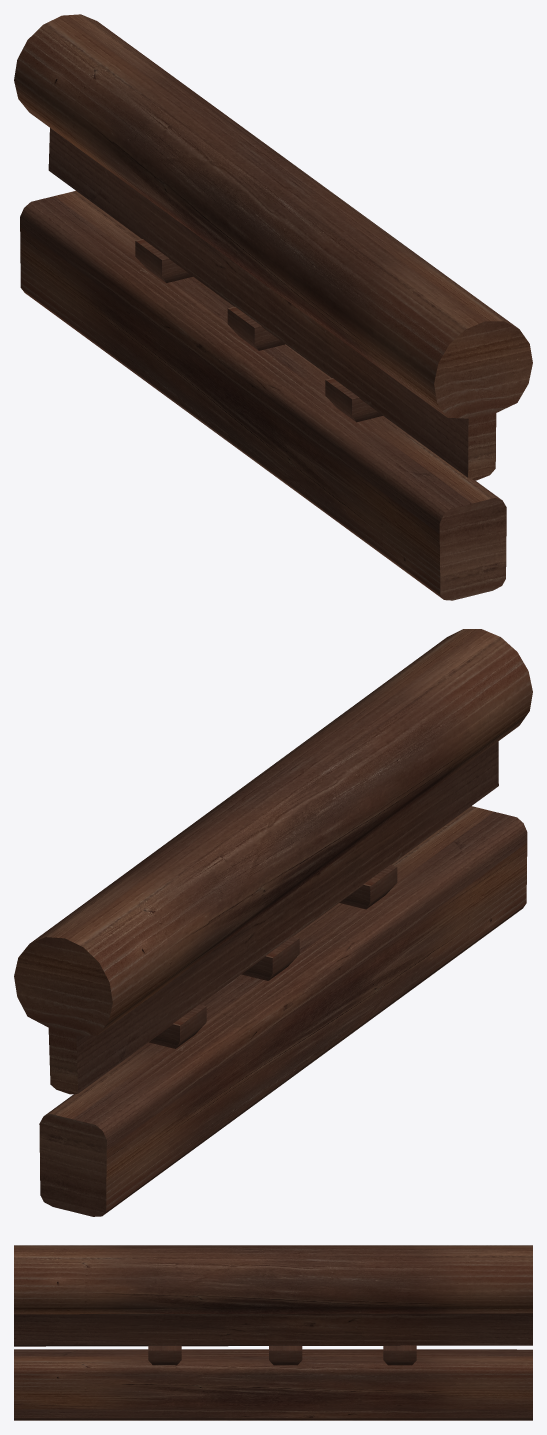
The model's file is SM_R_Dancheong_28.fbx.
The picture shows the model from 3 angles, top to bottom: view 1: azimuth 30°, elevation 25°; view 2: azimuth 150°, elevation 25°; view 3: azimuth 270°, elevation 25°; orthographic projection. The views are drawn at different scales.
Visible parts, largest first — view 1: SM_R_Dancheong_28; view 2: SM_R_Dancheong_28; view 3: SM_R_Dancheong_28.
Boxes of the visible parts, x1,y1,x2,y2 form: SM_R_Dancheong_28: (14,14,532,600); SM_R_Dancheong_28: (14,629,532,1216); SM_R_Dancheong_28: (14,1245,532,1420).
Bounding box in the file's own units: 39.79 × 291 × 104.
1 material, 1 textured.
